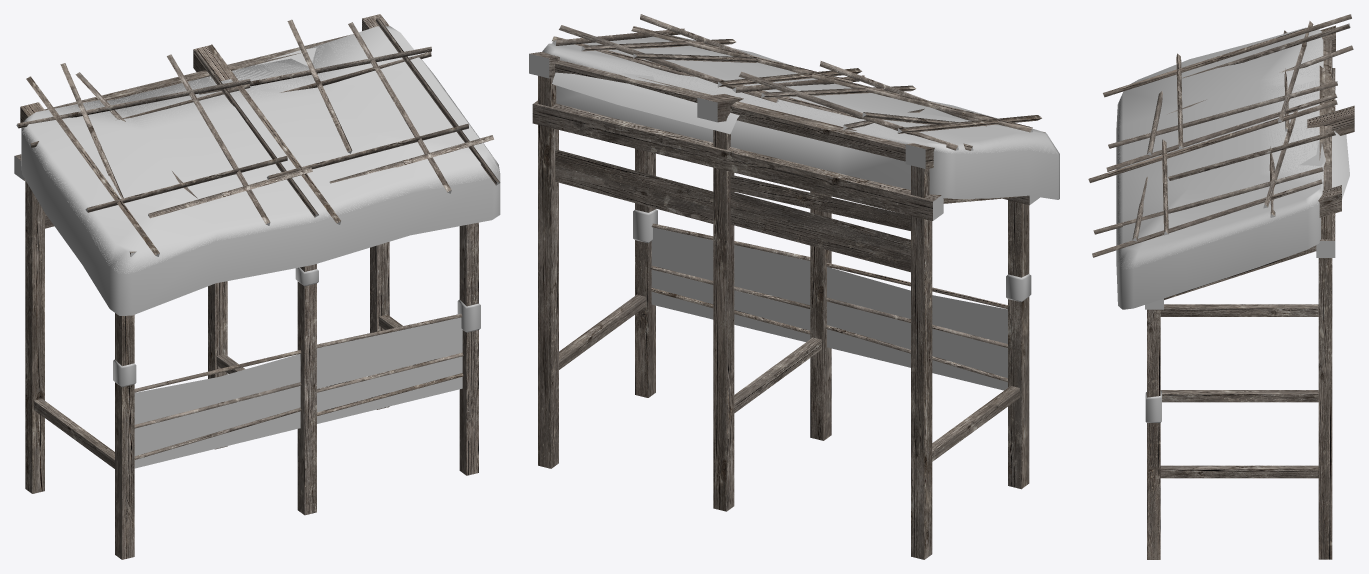
Rendered from Stall1_LOD1.fbx.
3 views of the same model, side by side, from view 1: azimuth 30°, elevation 25°; view 2: azimuth 150°, elevation 25°; view 3: azimuth 270°, elevation 25° (orthographic). The views are drawn at different scales.
Visible parts, largest first — view 1: polySurface2873; view 2: polySurface2873; view 3: polySurface2873.
Part boxes in pixels (box(x1,y1,x2,y2)): polySurface2873: box(14, 14, 500, 559); polySurface2873: box(529, 14, 1059, 559); polySurface2873: box(1088, 14, 1354, 559).
Bounding box in the file's own units: 5.71 × 5.65 × 3.49.
